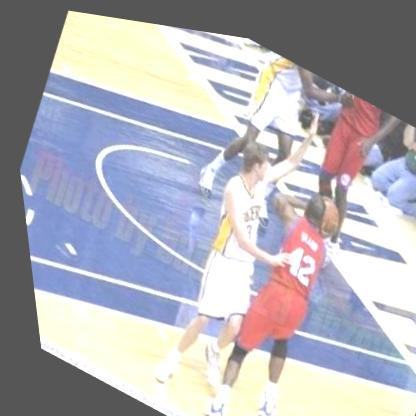basketball: (295, 177, 348, 236)
